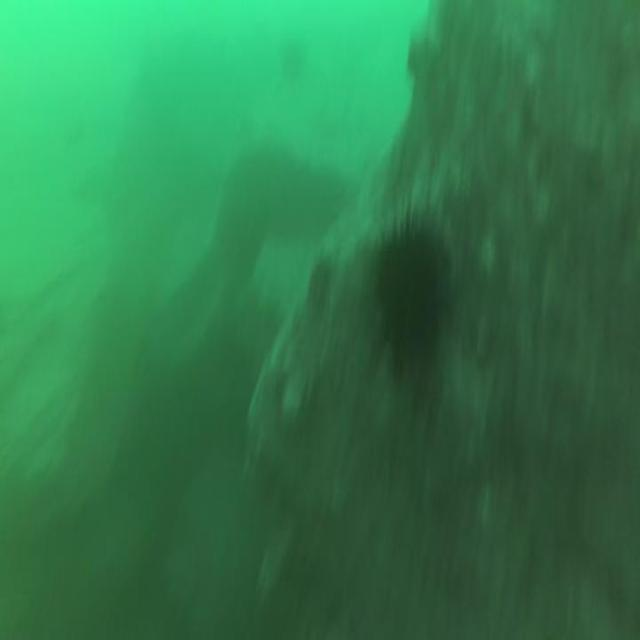echinus: (378, 230, 445, 370), (307, 261, 329, 305)
